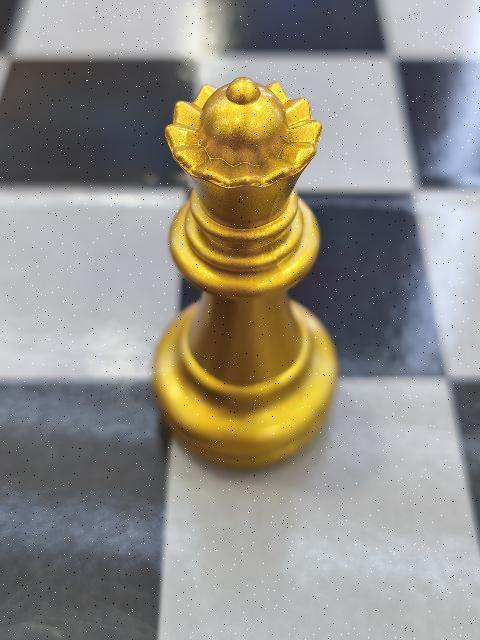black_queen: (153, 74, 339, 468)
